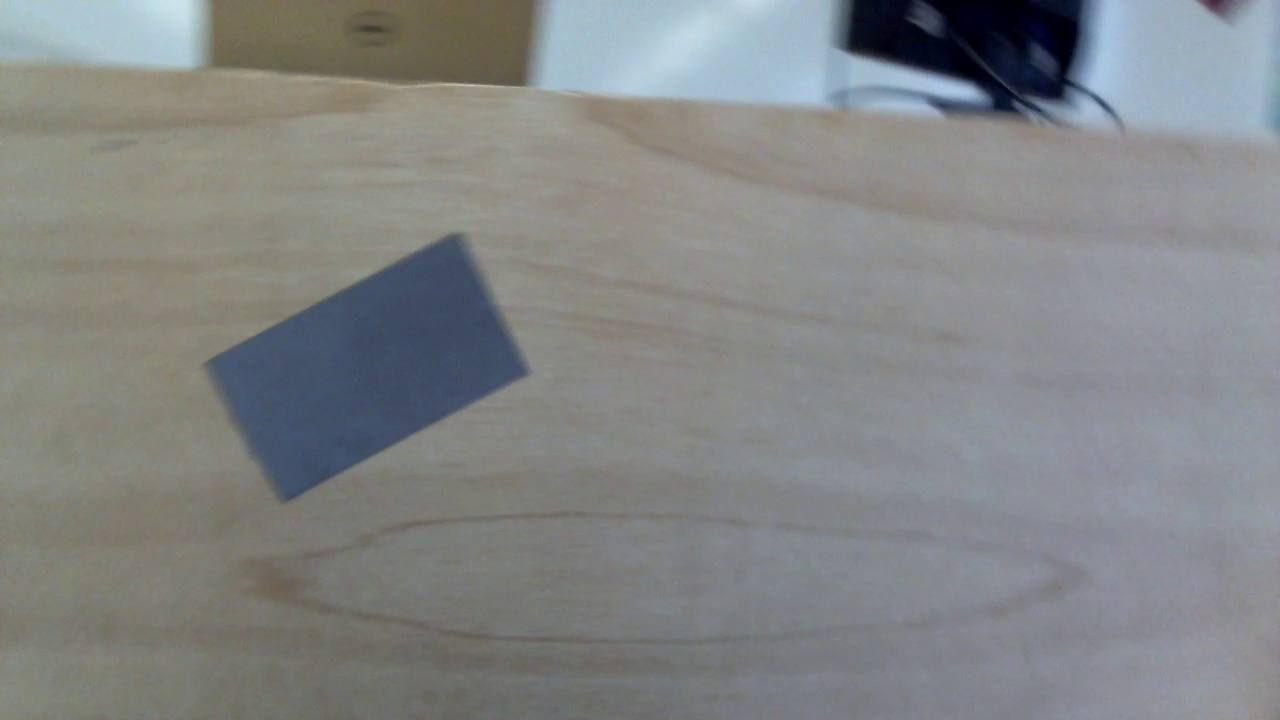Tape: (201, 236, 533, 503)
